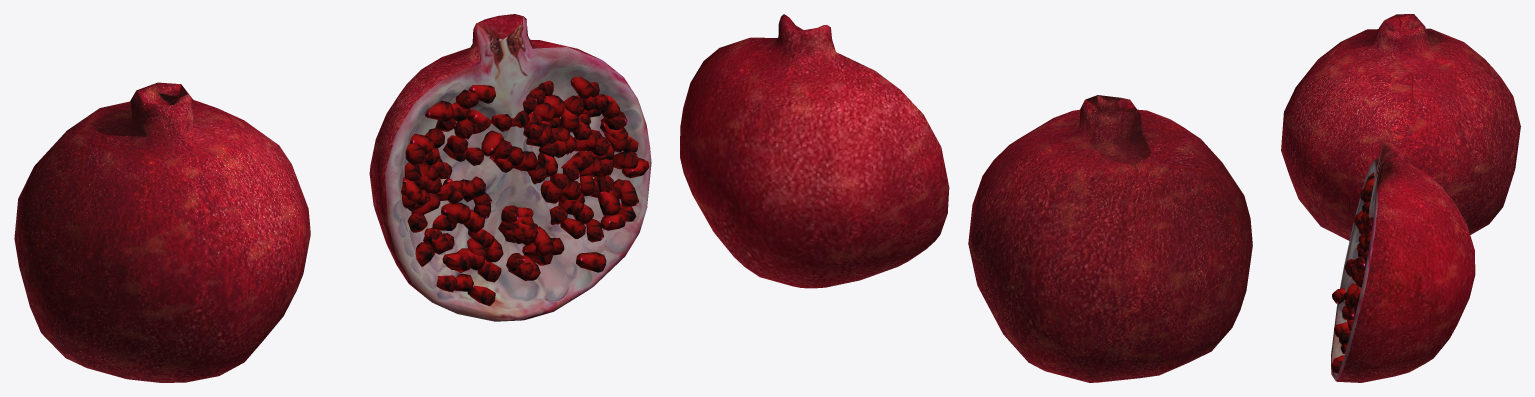
The model's file is pomegranate.optimized.glb.
The picture shows the model from 3 angles, left to right: view 1: azimuth 30°, elevation 25°; view 2: azimuth 150°, elevation 25°; view 3: azimuth 270°, elevation 25°; orthographic projection. The views are drawn at different scales.
Parts seen in each view (by area): view 1: Pom full flat_pom skin_0, pom half flat_seed_0, pom half flat_Material.003_0, pom half flat_pom skin half_0; view 2: Pom full flat_pom skin_0, pom half flat_pom skin half_0; view 3: Pom full flat_pom skin_0, pom half flat_pom skin half_0, pom half flat_seed_0, pom half flat_Material.003_0.
Part boxes in pixels (box(x1,y1,x2,y2)): Pom full flat_pom skin_0: box(14, 82, 310, 382); pom half flat_seed_0: box(401, 77, 649, 306); pom half flat_Material.003_0: box(385, 16, 651, 321); pom half flat_pom skin half_0: box(369, 14, 600, 300); Pom full flat_pom skin_0: box(968, 95, 1252, 382); pom half flat_pom skin half_0: box(680, 14, 949, 288); Pom full flat_pom skin_0: box(1281, 14, 1520, 240); pom half flat_pom skin half_0: box(1336, 142, 1475, 382); pom half flat_seed_0: box(1331, 172, 1374, 373); pom half flat_Material.003_0: box(1331, 142, 1384, 380).
Bounding box in the file's own units: 472 × 211 × 207.
4 materials, 4 textured.
